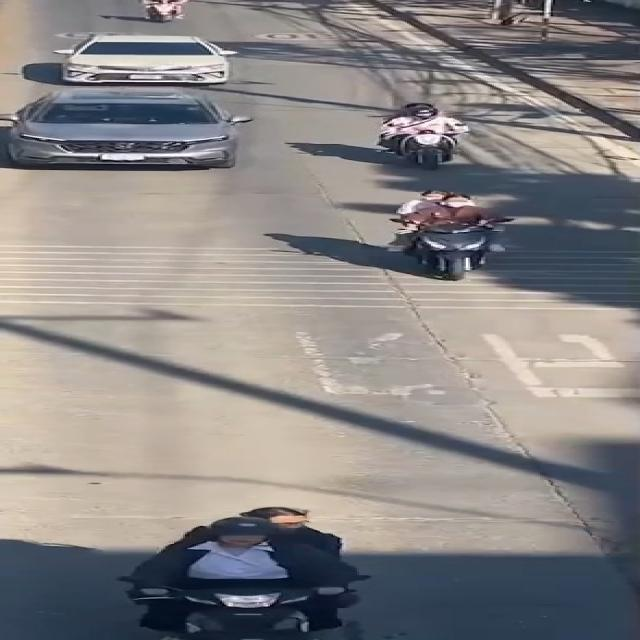car: (0, 83, 270, 176), (25, 28, 283, 86)
